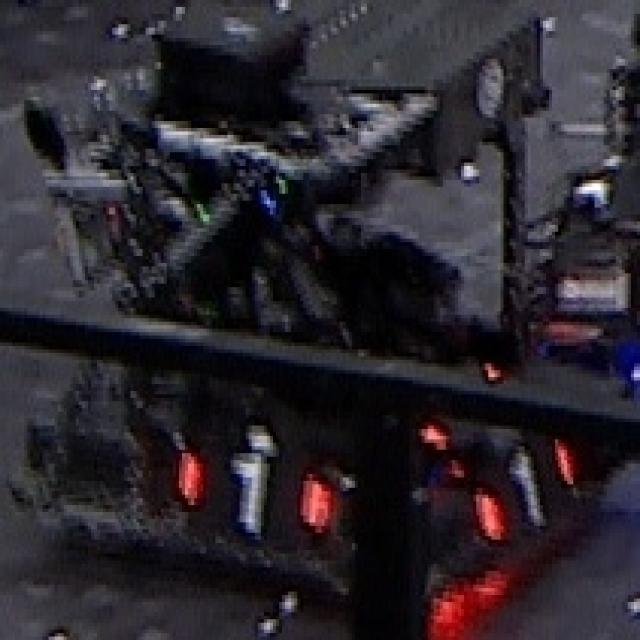R1: (159, 434, 335, 535), (462, 431, 574, 548)
